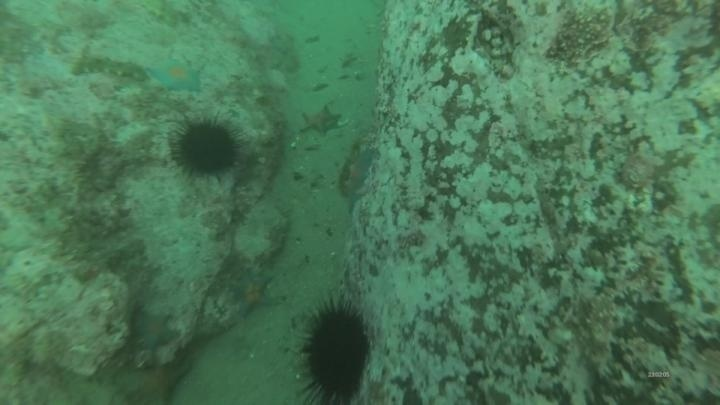echinus: (296, 298, 374, 404), (168, 115, 244, 181)
holothurian: (68, 50, 150, 84)
starfish: (115, 359, 192, 405), (227, 268, 280, 319), (131, 306, 179, 353), (146, 57, 205, 95), (342, 145, 380, 194), (298, 103, 344, 138)
